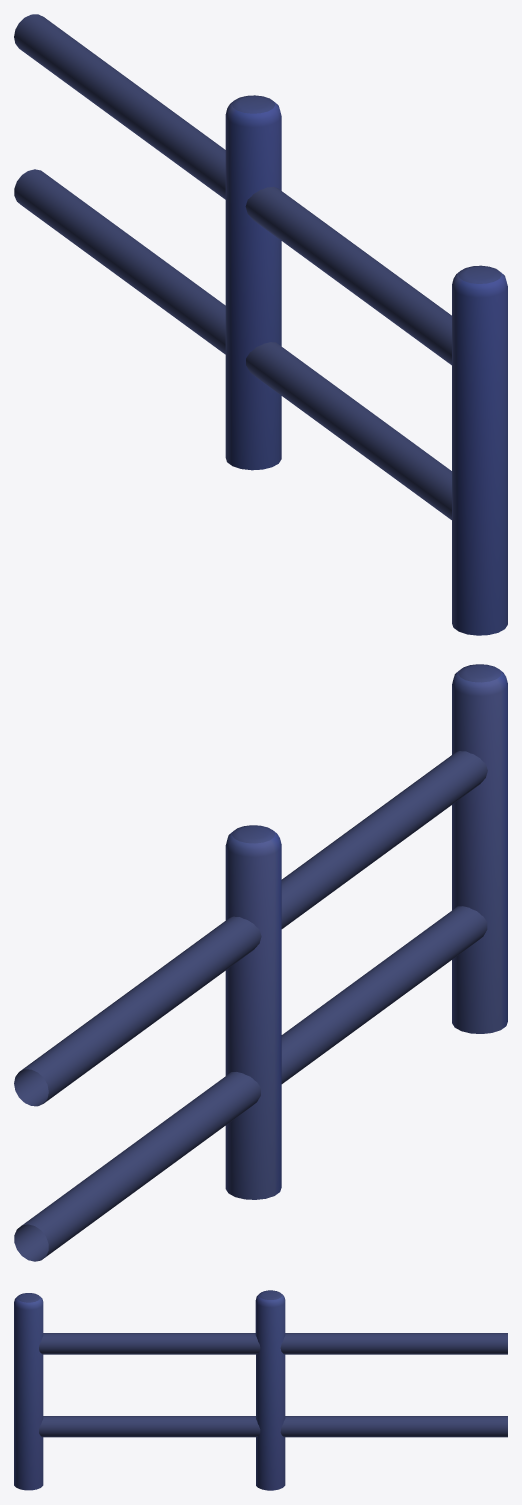
Rendered from Fence.fbx.
The picture shows the model from 3 angles, top to bottom: view 1: azimuth 30°, elevation 25°; view 2: azimuth 150°, elevation 25°; view 3: azimuth 270°, elevation 25°; orthographic projection. The views are drawn at different scales.
Parts seen in each view (by area): view 1: fence.010; view 2: fence.010; view 3: fence.010.
Boxes of the visible parts, left/top/right/bottom form: fence.010: left=14, top=14, right=507, bottom=635; fence.010: left=14, top=664, right=507, bottom=1261; fence.010: left=14, top=1290, right=507, bottom=1490.
Bounding box in the file's own units: 45.45 × 323 × 761.
